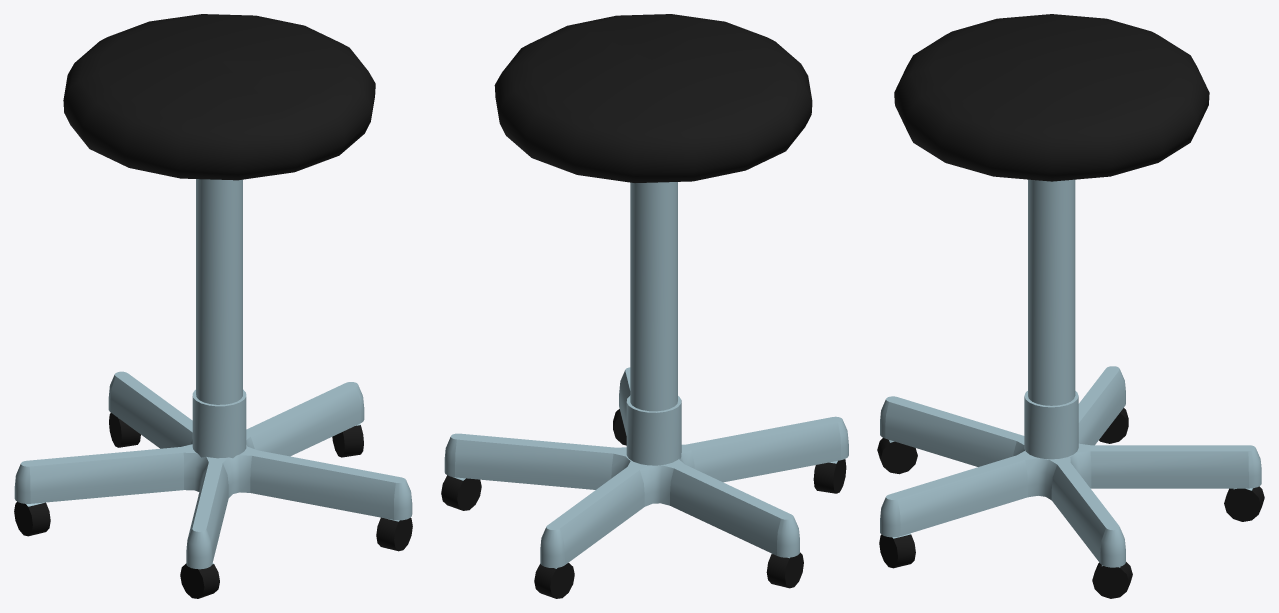
File: stool.obj
The picture shows the model from 3 angles, left to right: view 1: azimuth 30°, elevation 25°; view 2: azimuth 150°, elevation 25°; view 3: azimuth 270°, elevation 25°; orthographic projection.
Parts seen in each view (by area): view 1: Stool_Object01870_2, Stool_Object01_1, Stool_Object011048_3; view 2: Stool_Object01870_2, Stool_Object01_1, Stool_Object011048_3; view 3: Stool_Object01_1, Stool_Object01870_2, Stool_Object011048_3.
Boxes of the visible parts, x1,y1,x2,y2 form: Stool_Object01870_2: (63,14,375,180); Stool_Object01_1: (14,179,412,569); Stool_Object011048_3: (14,413,412,598); Stool_Object01870_2: (494,14,812,182); Stool_Object01_1: (444,182,848,568); Stool_Object011048_3: (441,409,846,598); Stool_Object01_1: (880,179,1261,567); Stool_Object01870_2: (894,14,1209,181); Stool_Object011048_3: (877,408,1264,598).
Size of the model in its own units: 38.89 by 48.89 by 37.65.
